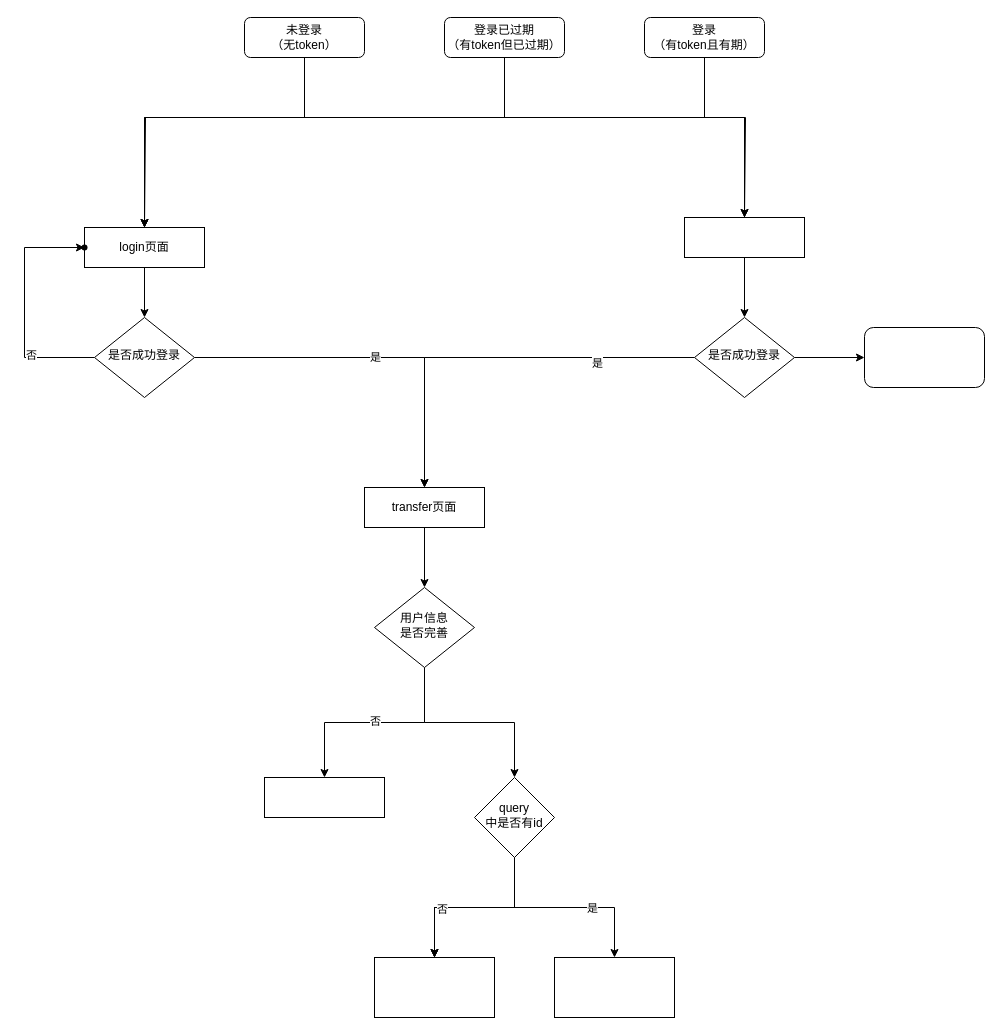
Image size: 1002x1035. Some labels were removed from this diagram. The centre of each missing label's shape, as x and y in pixels:
"ssologin页面" belongs at [744,237].
"抛出错误" belongs at [924,357].
"用户信息填写页面" belongs at [324,797].
"跳转签到详情页面" belongs at [614,987].
"跳转首页" belongs at [434,987].
